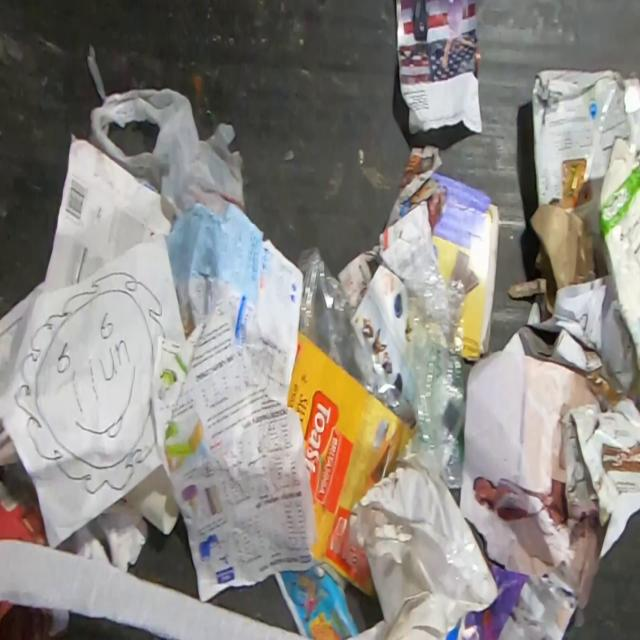cardboard: (286, 330, 416, 598), (530, 67, 640, 279), (44, 140, 171, 292), (558, 392, 640, 557), (506, 199, 598, 316), (598, 137, 639, 374), (0, 462, 50, 548), (0, 599, 71, 640)
soft_plastic: (345, 432, 499, 640), (86, 41, 248, 221), (297, 246, 415, 429), (404, 258, 467, 488)
